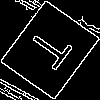T: (25, 25, 82, 77)
